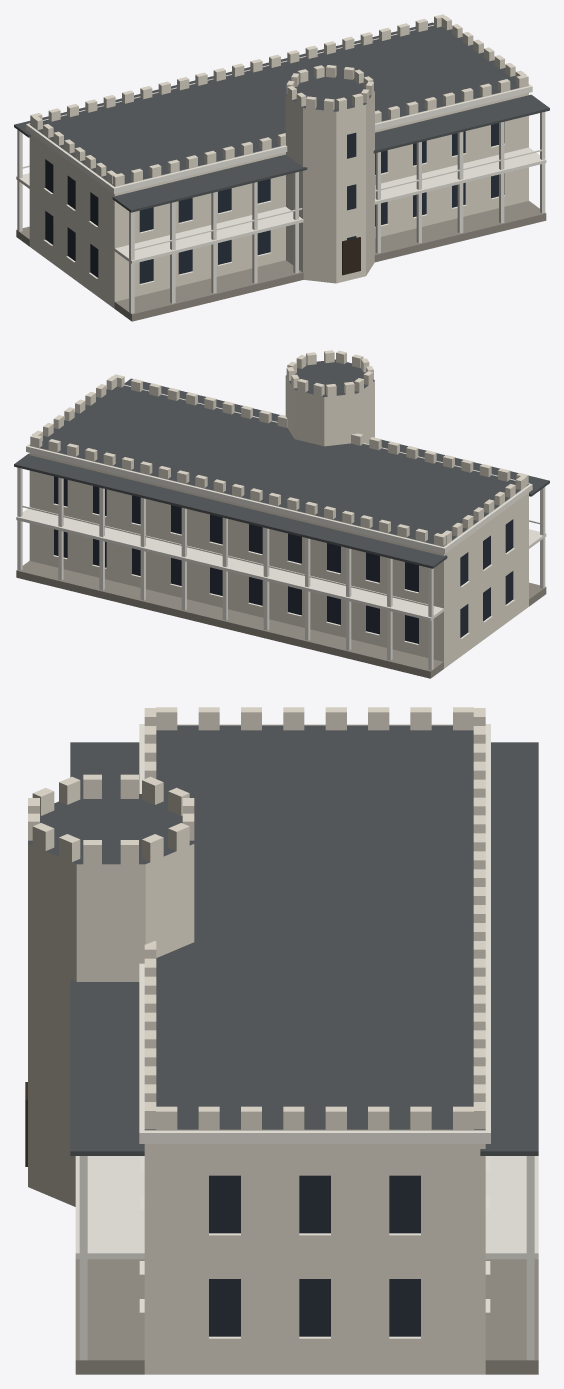
File: arsenal-tower-building.glb
3 renders of one model, top to bottom at view 1: azimuth 30°, elevation 25°; view 2: azimuth 150°, elevation 25°; view 3: azimuth 270°, elevation 25°, orthographic. The views are drawn at different scales.
Parts seen in each view (by area): view 1: arsenal_wall, arsenal_roof, arsenal_porch, arsenal_floor, arsenal_glass, arsenal_trim, arsenal_door; view 2: arsenal_wall, arsenal_roof, arsenal_porch, arsenal_floor, arsenal_glass, arsenal_trim; view 3: arsenal_roof, arsenal_wall, arsenal_porch, arsenal_floor, arsenal_glass, arsenal_trim.
Part boxes in pixels (left/top/right/bottom): arsenal_wall: left=29, top=14, right=528, bottom=308; arsenal_roof: left=14, top=22, right=549, bottom=212; arsenal_porch: left=16, top=112, right=546, bottom=313; arsenal_floor: left=16, top=201, right=546, bottom=321; arsenal_glass: left=45, top=122, right=504, bottom=283; arsenal_trim: left=26, top=25, right=532, bottom=284; arsenal_door: left=342, top=237, right=360, bottom=275; arsenal_wall: left=29, top=350, right=528, bottom=668; arsenal_roof: left=14, top=359, right=549, bottom=568; arsenal_porch: left=16, top=467, right=546, bottom=670; arsenal_floor: left=16, top=561, right=546, bottom=678; arsenal_glass: left=54, top=476, right=513, bottom=643; arsenal_trim: left=26, top=385, right=532, bottom=644; arsenal_roof: left=28, top=725, right=538, bottom=1155; arsenal_wall: left=28, top=707, right=485, bottom=1374; arsenal_porch: left=75, top=1156, right=538, bottom=1360; arsenal_floor: left=75, top=1259, right=538, bottom=1374; arsenal_glass: left=209, top=1175, right=420, bottom=1336; arsenal_trim: left=139, top=724, right=490, bottom=1338.
Bounding box in the file's own units: 36.51 × 15.1 × 19.37.
